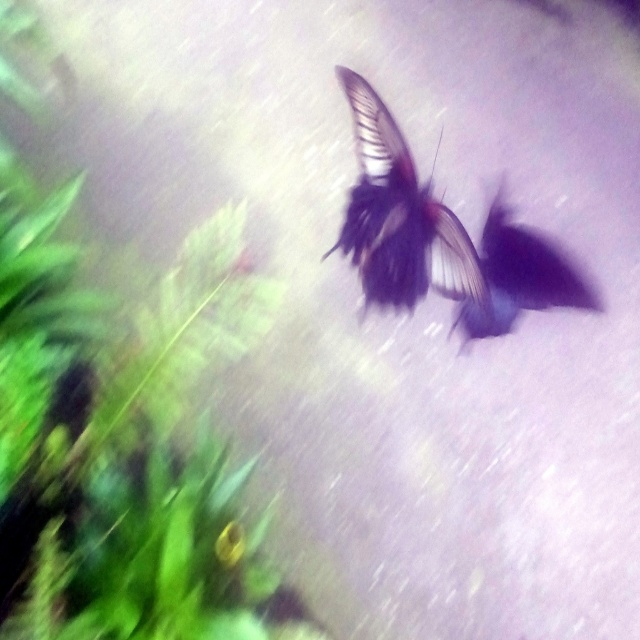Butterfly: (334, 91, 506, 332)
